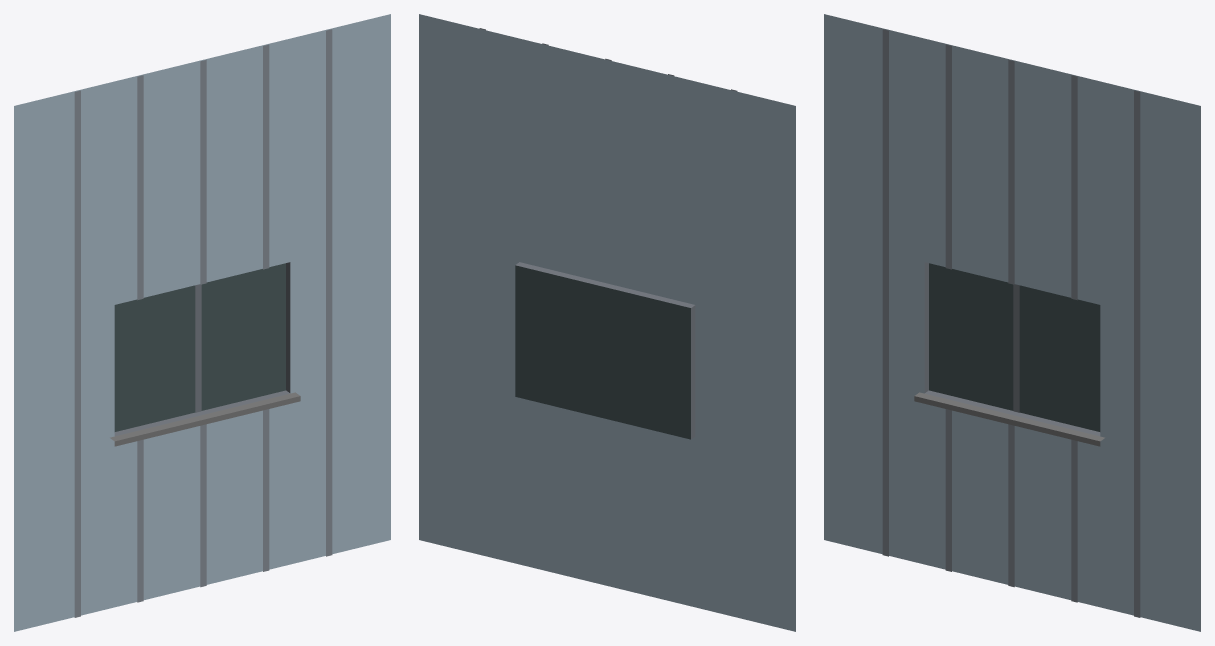
The model's file is mid-w1.fbx.
The picture shows the model from 3 angles, left to right: view 1: azimuth 30°, elevation 25°; view 2: azimuth 150°, elevation 25°; view 3: azimuth 330°, elevation 25°; orthographic projection.
Visible parts, largest first — view 1: a2004/200/mid-w1; view 2: a2004/200/mid-w1; view 3: a2004/200/mid-w1.
Boxes of the visible parts, x1,y1,x2,y2 form: a2004/200/mid-w1: [14, 14, 390, 631]; a2004/200/mid-w1: [419, 14, 795, 631]; a2004/200/mid-w1: [824, 14, 1200, 631].
Bounding box in the file's own units: 3 × 4 × 0.13.
